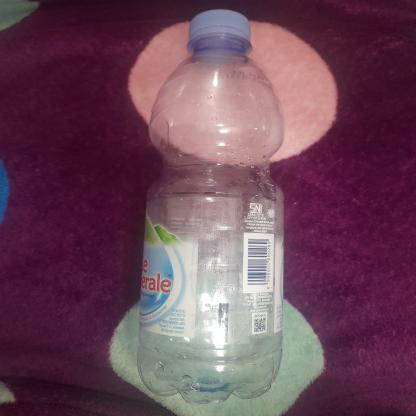plastic: (127, 6, 288, 406)
